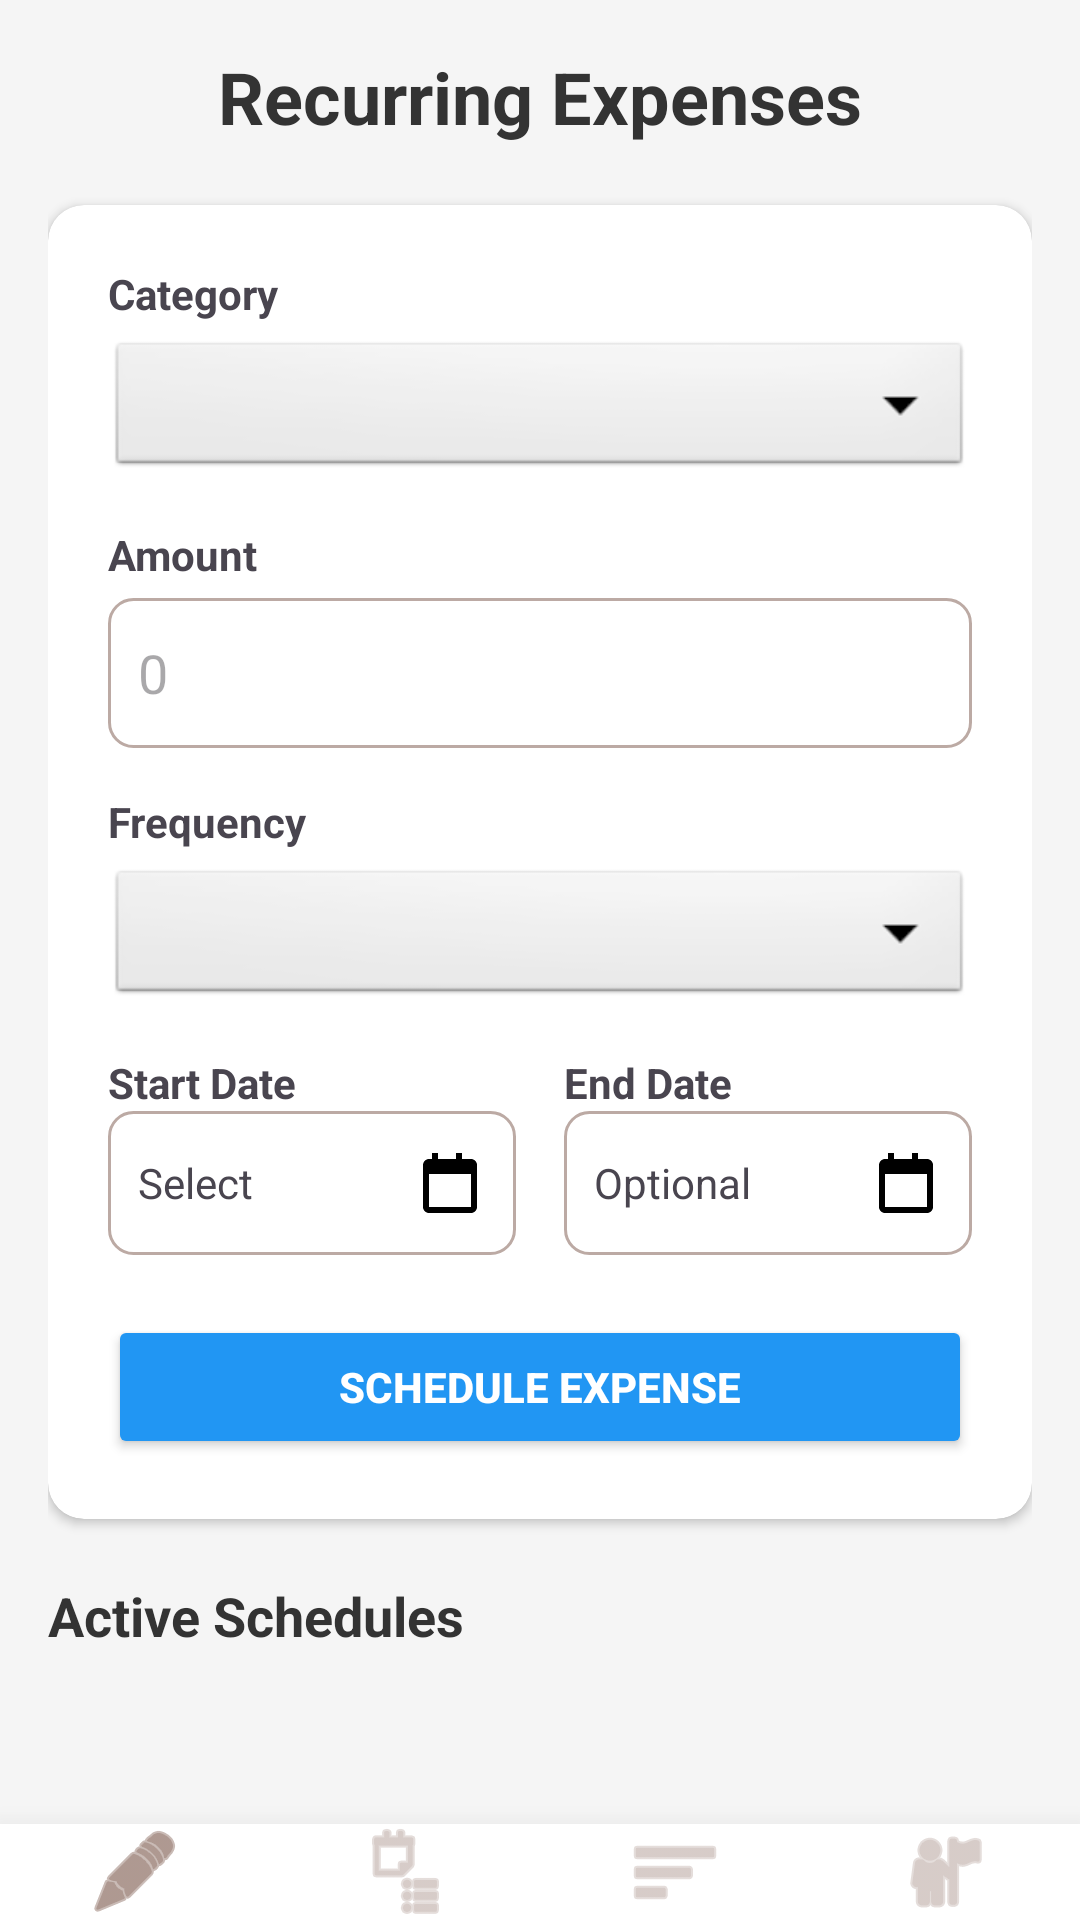

Screen size 1080×1920. Icon name, then its center in pixels as (x=x, y=y):
Report: (x=675, y=1872)
